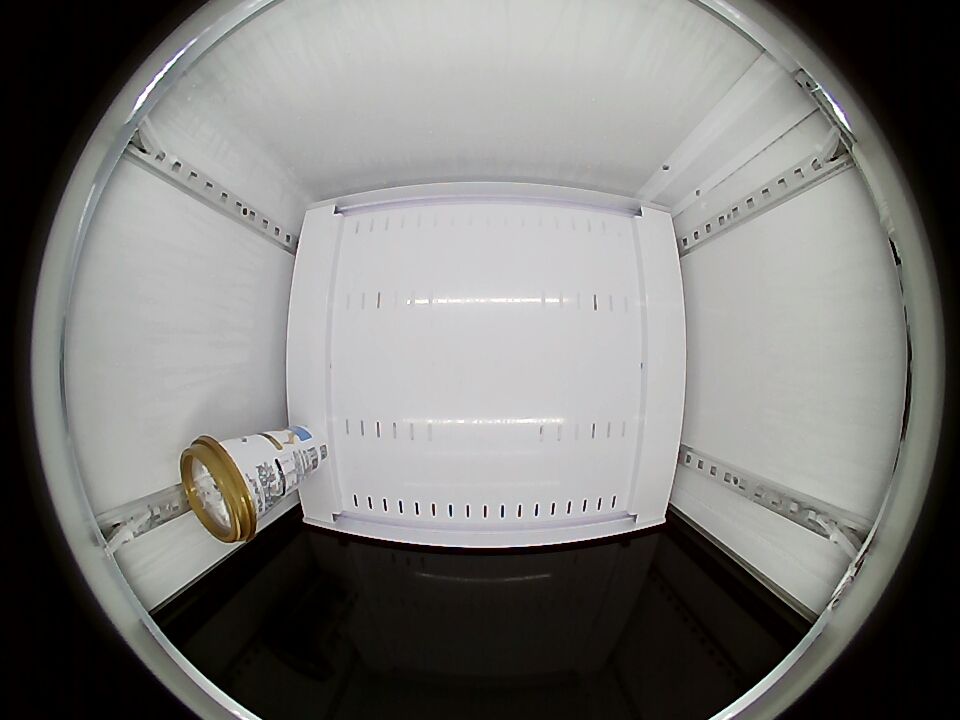lujiaoxiang: (180, 435, 264, 545)
